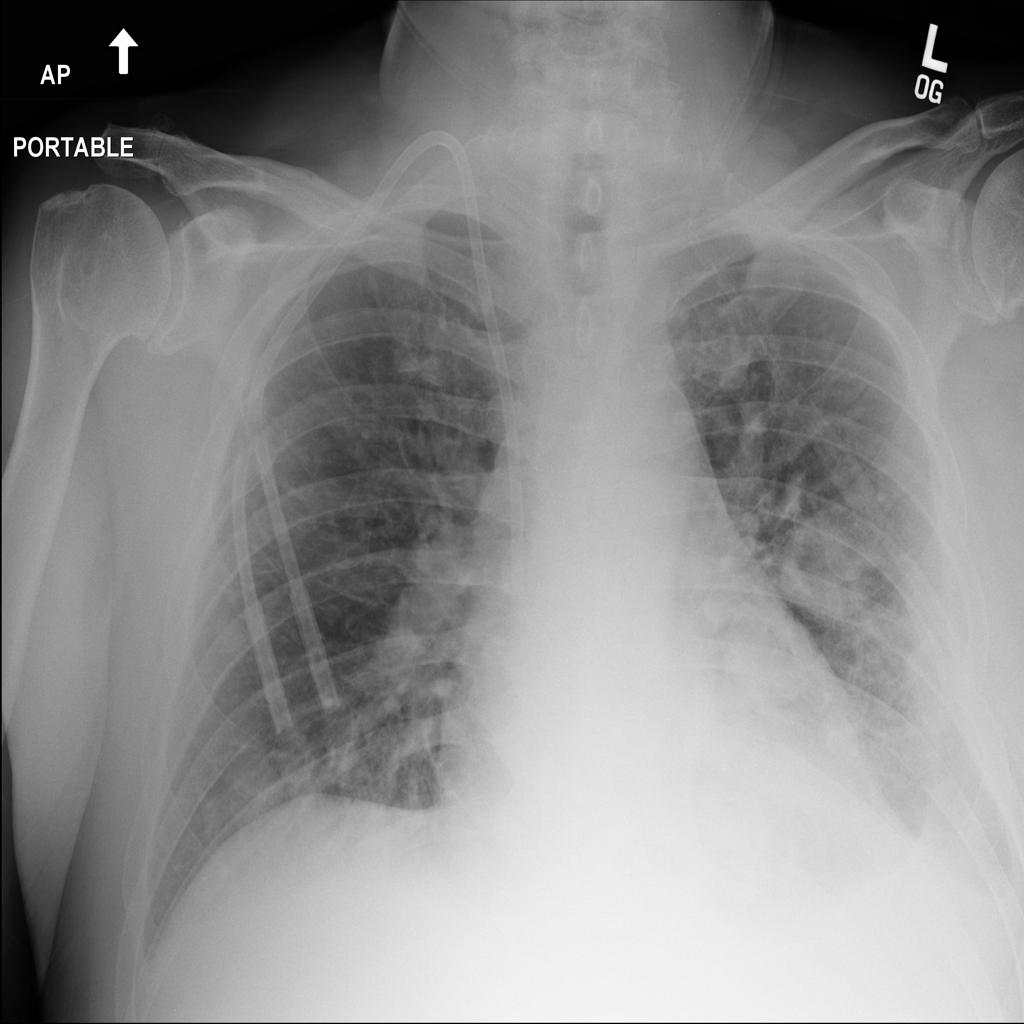nodule: (769, 490, 891, 641), (805, 694, 874, 774)
